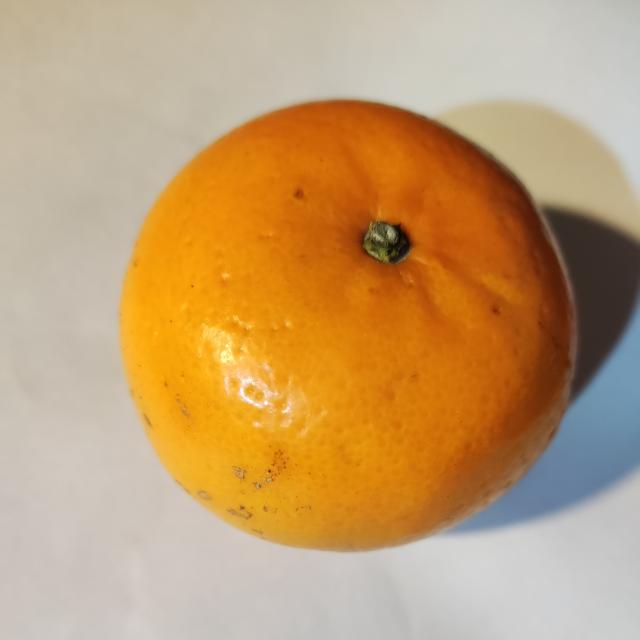orange: (121, 102, 574, 549)
